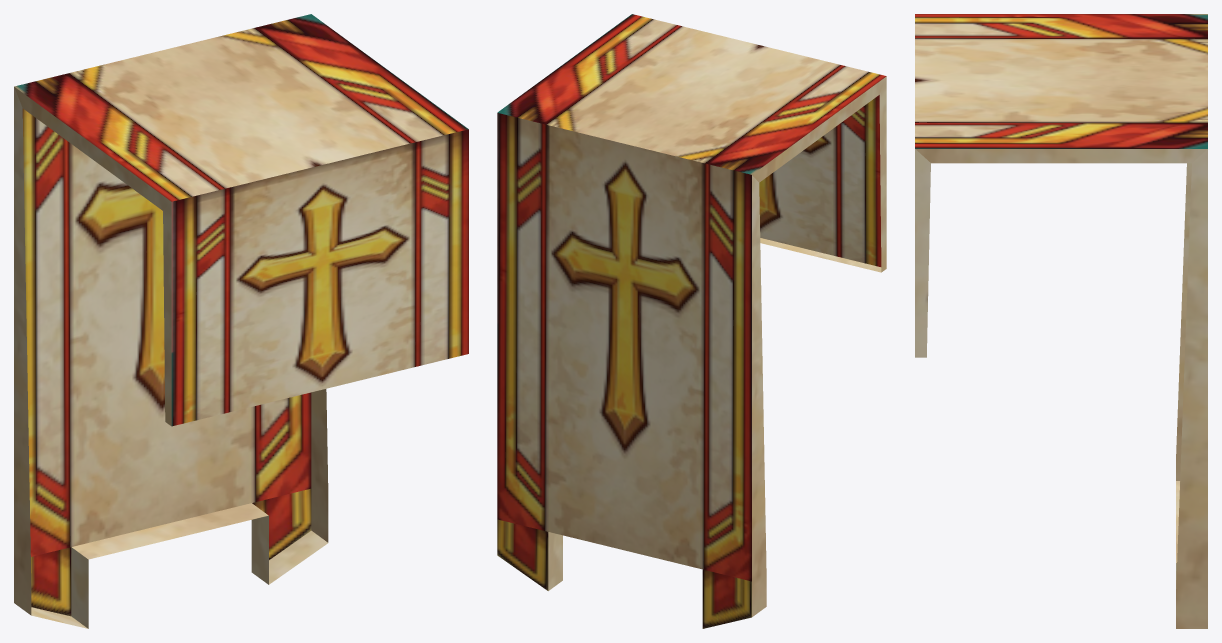
Rendered from Stendardo_Brunforte.fbx.
The picture shows the model from 3 angles, left to right: view 1: azimuth 30°, elevation 25°; view 2: azimuth 150°, elevation 25°; view 3: azimuth 270°, elevation 25°; orthographic projection. The views are drawn at different scales.
Parts seen in each view (by area): view 1: Stendardo_Brunforte; view 2: Stendardo_Brunforte; view 3: Stendardo_Brunforte.
Part boxes in pixels (x1,y1,x2,y2): Stendardo_Brunforte: [14, 14, 468, 628]; Stendardo_Brunforte: [497, 14, 886, 628]; Stendardo_Brunforte: [915, 14, 1207, 628].
Size of the model in its own units: 212 by 371 by 195.
Materials: 1 (1 with a texture image).
